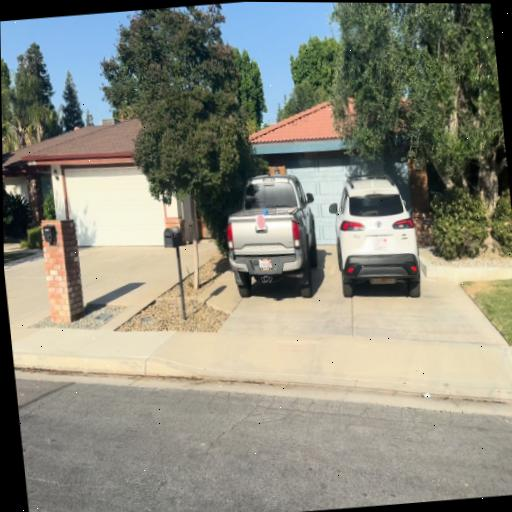bullseye: (256, 215, 266, 230)
